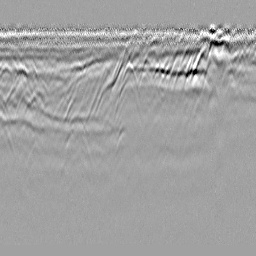cavity: (117, 60, 141, 102)
